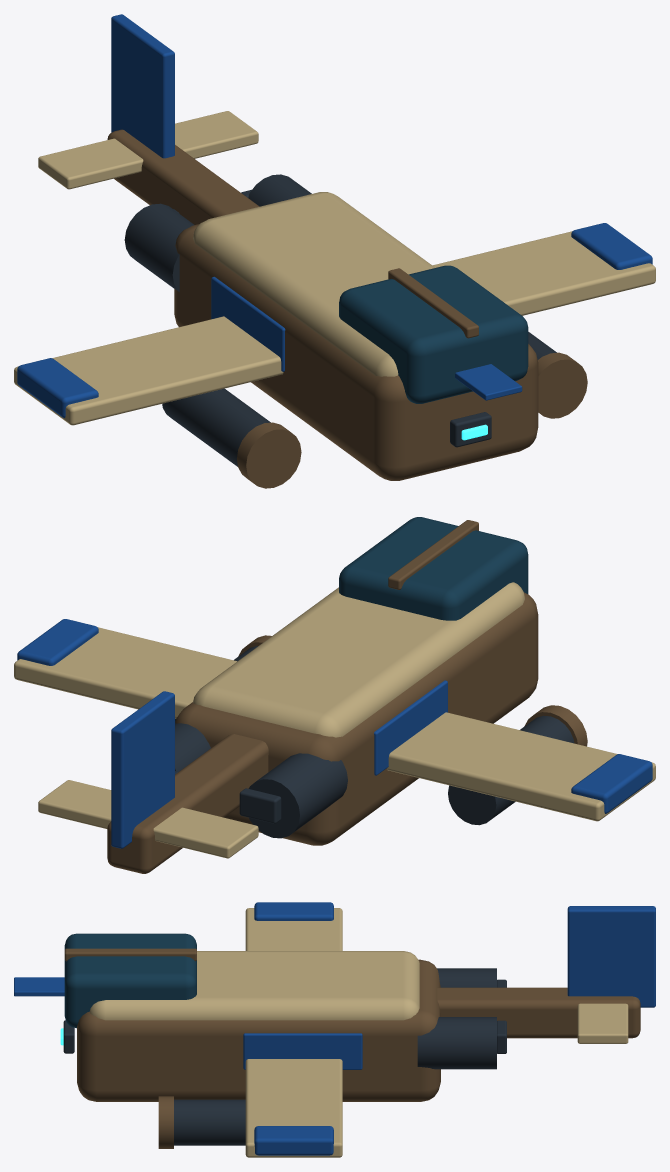
The model's file is bomber-0.glb.
3 renders of one model, top to bottom at view 1: azimuth 30°, elevation 25°; view 2: azimuth 150°, elevation 25°; view 3: azimuth 270°, elevation 25°, orthographic. The views are drawn at different scales.
Visible parts, largest first — view 1: Airframe_0, CeramicFuselage_1, Cockpit_2, Wing_8, Wing_16, TailFin_24, TailPlane_25, TailBoom_23, WeaponPod_10, Exhaust_12, WeaponRim_11, WeaponRim_19 (+7 smaller); view 2: CeramicFuselage_1, Airframe_0, Wing_8, Cockpit_2, Wing_16, TailBoom_23, TailFin_24, TailPlane_25, Exhaust_12, WingTip_9, SideEnamel_7, WeaponPod_10 (+5 smaller); view 3: Airframe_0, CeramicFuselage_1, Cockpit_2, TailFin_24, Wing_16, TailBoom_23, Exhaust_20, SideEnamel_15, WeaponPod_18, Wing_8, WingTip_17, TailPlane_25 (+5 smaller).
Boxes of the visible parts, left/top/right/bottom form: Airframe_0: left=174, top=224, right=538, bottom=480; CeramicFuselage_1: left=193, top=192, right=435, bottom=376; Cockpit_2: left=339, top=265, right=528, bottom=403; Wing_8: left=14, top=316, right=283, bottom=425; Wing_16: left=432, top=231, right=655, bottom=315; TailFin_24: left=111, top=14, right=174, bottom=158; TailPlane_25: left=38, top=111, right=258, bottom=189; TailBoom_23: left=107, top=129, right=259, bottom=224; WeaponPod_10: left=162, top=388, right=270, bottom=466; Exhaust_12: left=124, top=203, right=194, bottom=291; WeaponRim_11: left=237, top=422, right=301, bottom=488; WeaponRim_19: left=538, top=352, right=587, bottom=418; CeramicFuselage_1: left=193, top=582, right=524, bottom=737; Airframe_0: left=175, top=592, right=538, bottom=845; Wing_8: left=386, top=712, right=655, bottom=821; Cockpit_2: left=339, top=517, right=528, bottom=620; Wing_16: left=14, top=627, right=236, bottom=718; TailBoom_23: left=107, top=734, right=268, bottom=873; TailFin_24: left=111, top=691, right=174, bottom=848; TailPlane_25: left=38, top=780, right=258, bottom=858; Exhaust_12: left=248, top=753, right=347, bottom=838; WingTip_9: left=571, top=754, right=652, bottom=813; SideEnamel_7: left=374, top=680, right=447, bottom=775; WeaponPod_10: left=448, top=715, right=574, bottom=825; Airframe_0: left=77, top=959, right=440, bottom=1101; CeramicFuselage_1: left=90, top=951, right=419, bottom=1020; Cockpit_2: left=64, top=933, right=196, bottom=1028; TailFin_24: left=567, top=906, right=655, bottom=1007; Wing_16: left=245, top=1059, right=342, bottom=1157; TailBoom_23: left=437, top=987, right=640, bottom=1038; Exhaust_20: left=417, top=1017, right=496, bottom=1069; SideEnamel_15: left=243, top=1033, right=362, bottom=1069; WeaponPod_18: left=174, top=1099, right=245, bottom=1145; Wing_8: left=245, top=908, right=342, bottom=950; WingTip_17: left=254, top=1126, right=333, bottom=1155; TailPlane_25: left=577, top=1003, right=628, bottom=1043.
Bounding box in the file's own units: 2.56 × 0.905 × 2.91.
